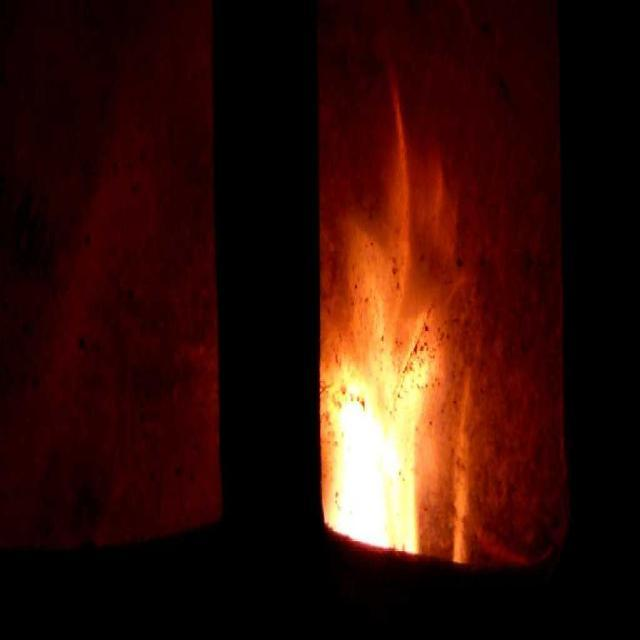Fire: (334, 389, 414, 537)
